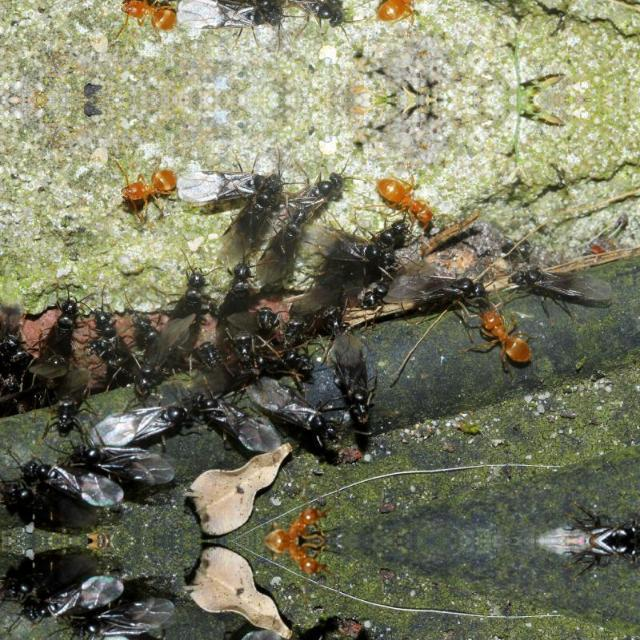Lasius: (8, 432, 124, 511), (485, 240, 611, 310), (325, 316, 389, 448), (125, 302, 205, 406), (240, 366, 342, 446), (8, 570, 124, 640), (186, 381, 284, 461), (30, 276, 98, 376), (403, 263, 505, 329), (527, 540, 639, 600), (224, 168, 286, 274), (527, 482, 639, 540), (53, 434, 167, 488), (53, 592, 167, 640), (214, 245, 272, 333), (370, 162, 444, 230), (189, 148, 277, 205), (118, 152, 186, 220), (82, 295, 132, 383), (189, 0, 277, 50), (84, 410, 192, 450), (48, 362, 102, 442), (479, 303, 543, 369), (280, 164, 356, 212), (262, 494, 341, 540), (172, 259, 210, 351), (262, 542, 341, 586), (116, 0, 186, 46), (266, 202, 314, 268), (120, 291, 178, 345), (370, 0, 444, 36), (280, 0, 356, 32), (186, 620, 284, 640), (224, 0, 286, 30), (82, 630, 192, 640)
